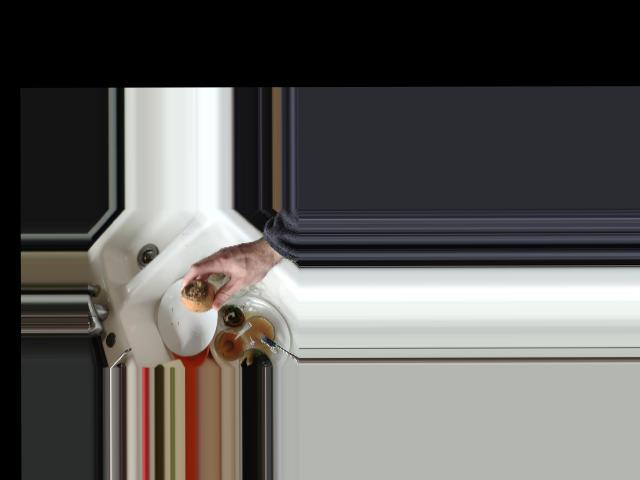sweet_potato: (179, 277, 224, 313)
